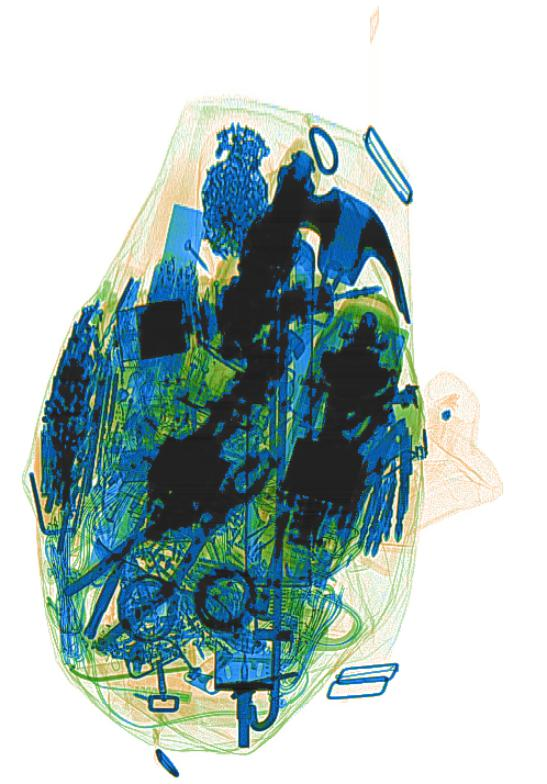battery: (133, 260, 201, 379)
